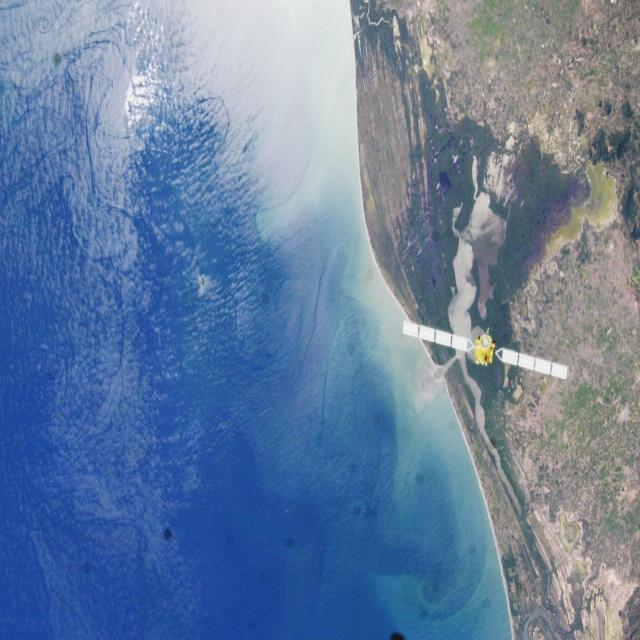satellite: (396, 310, 578, 384)
